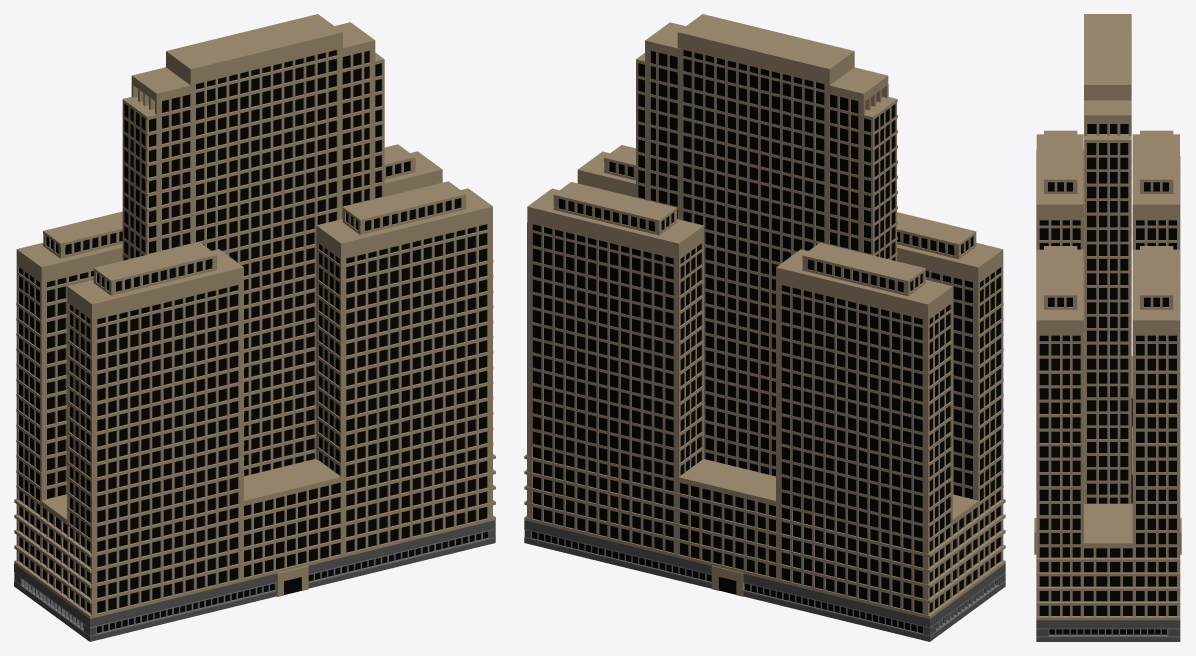
Rendered from SM_Building_2.fbx.
3 renders of one model, left to right at view 1: azimuth 30°, elevation 25°; view 2: azimuth 150°, elevation 25°; view 3: azimuth 270°, elevation 25°, orthographic. The views are drawn at different scales.
Parts seen in each view (by area): view 1: polySurface334; view 2: polySurface334; view 3: polySurface334.
Boxes of the visible parts, x1,y1,x2,y2 form: polySurface334: [14, 14, 495, 641]; polySurface334: [524, 14, 1005, 641]; polySurface334: [1034, 14, 1181, 641].
Size of the model in its own units: 247 by 305 by 81.55.
